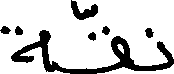ة: (0, 23, 52, 71)
ق: (87, 24, 129, 71)
ن: (144, 27, 173, 70)
